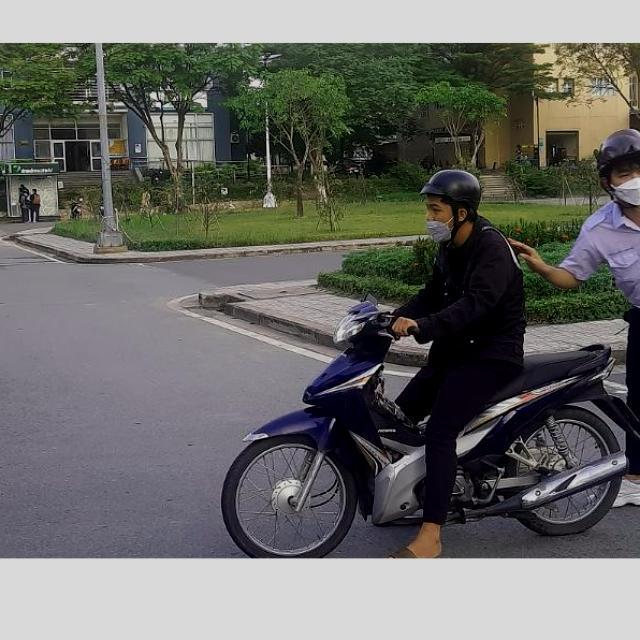Helmet: (417, 168, 483, 240), (597, 128, 640, 206)
